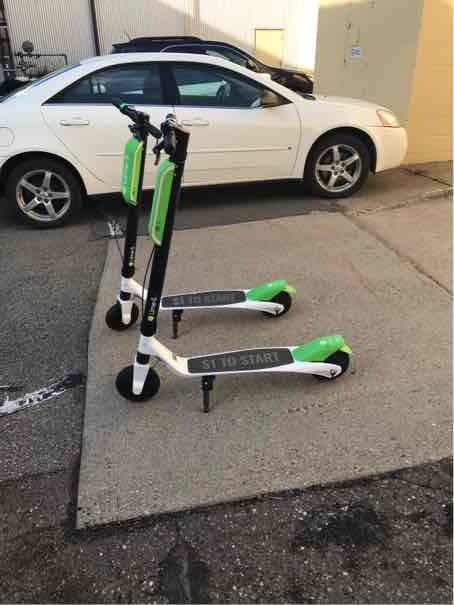scooter: (124, 106, 361, 406), (106, 88, 300, 354)
